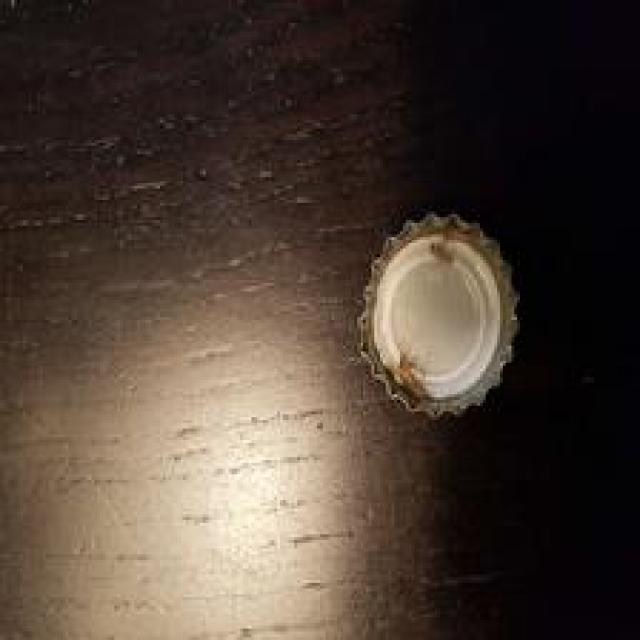Culex: (356, 209, 521, 420)
